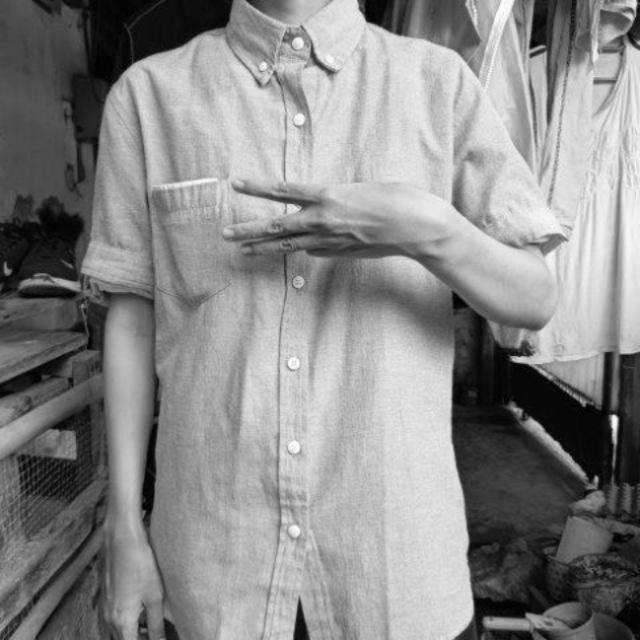E: (212, 159, 430, 279)
